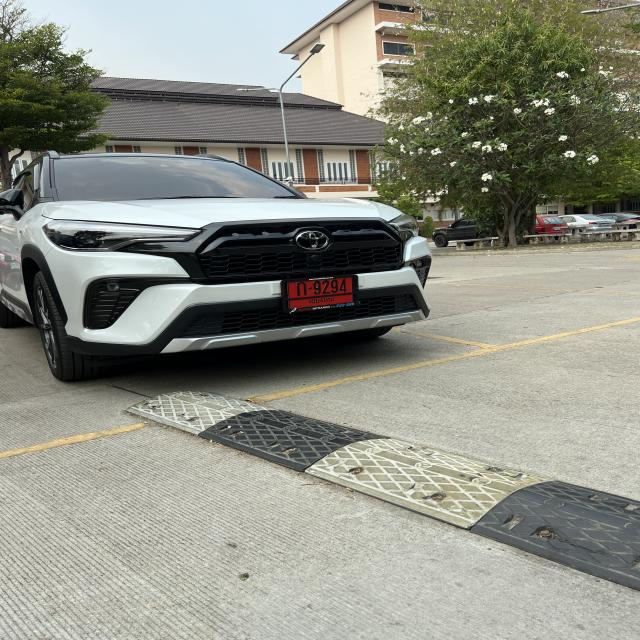license_plate: (280, 273, 362, 316)
